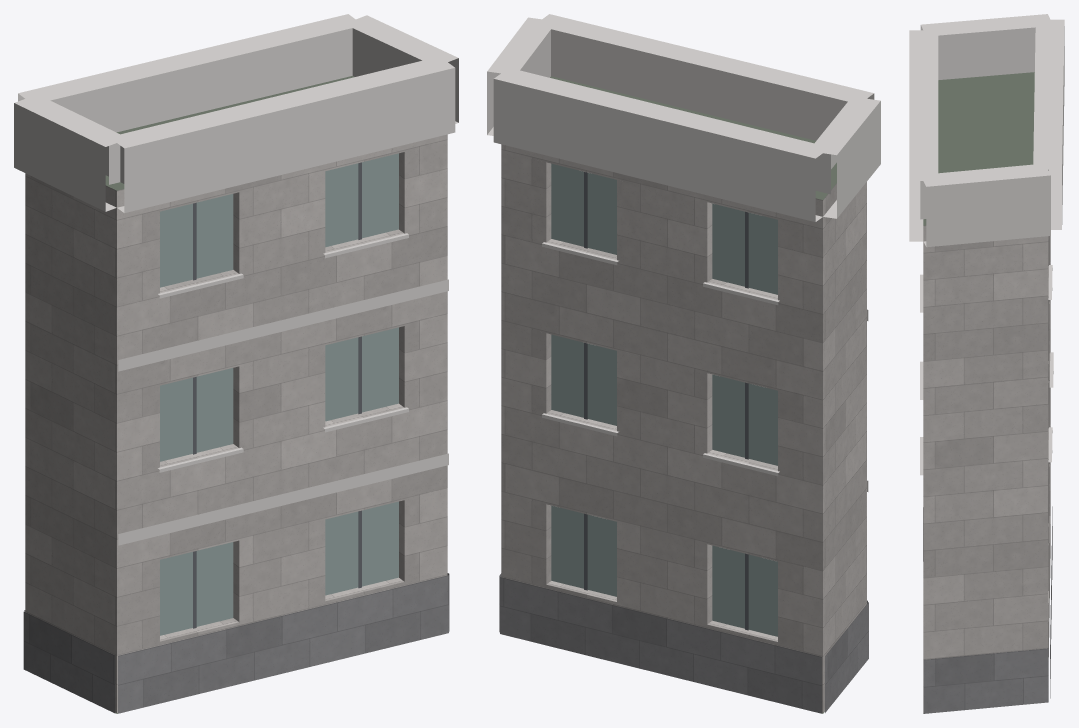
3 views of the same model, side by side, from view 1: azimuth 30°, elevation 25°; view 2: azimuth 150°, elevation 25°; view 3: azimuth 270°, elevation 25° (orthographic). The views are drawn at different scales.
Parts seen in each view (by area): view 1: b18_annex__wall, b18_annex__trim, b18_annex__glass, b18_annex__base, b18_annex__frame, b18_annex__roof; view 2: b18_annex__wall, b18_annex__trim, b18_annex__glass, b18_annex__base, b18_annex__frame, b18_annex__roof; view 3: b18_annex__wall, b18_annex__trim, b18_annex__roof, b18_annex__base.
Part boxes in pixels (left/top/right/bottom): b18_annex__wall: left=25, top=134, right=447, bottom=712; b18_annex__trim: left=14, top=14, right=458, bottom=545; b18_annex__glass: left=160, top=153, right=398, bottom=635; b18_annex__base: left=23, top=573, right=449, bottom=713; b18_annex__frame: left=193, top=162, right=361, bottom=628; b18_annex__roof: left=105, top=76, right=354, bottom=713; b18_annex__wall: left=501, top=144, right=866, bottom=712; b18_annex__trim: left=487, top=14, right=880, bottom=491; b18_annex__glass: left=551, top=163, right=777, bottom=636; b18_annex__base: left=499, top=573, right=868, bottom=713; b18_annex__frame: left=584, top=172, right=748, bottom=630; b18_annex__roof: left=550, top=76, right=836, bottom=713; b18_annex__wall: left=923, top=170, right=1050, bottom=712; b18_annex__trim: left=909, top=14, right=1064, bottom=475; b18_annex__roof: left=923, top=72, right=1050, bottom=713; b18_annex__base: left=923, top=506, right=1052, bottom=713.
Bounding box in the file's own units: 8.21 × 11.81 × 3.12.
Materials: 6 (2 with a texture image).
